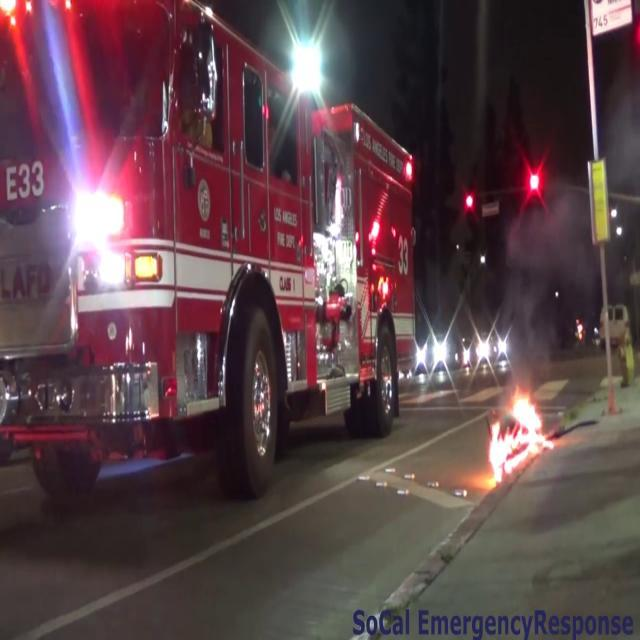Fire: (480, 386, 551, 489)
Smoke: (500, 182, 603, 376)
